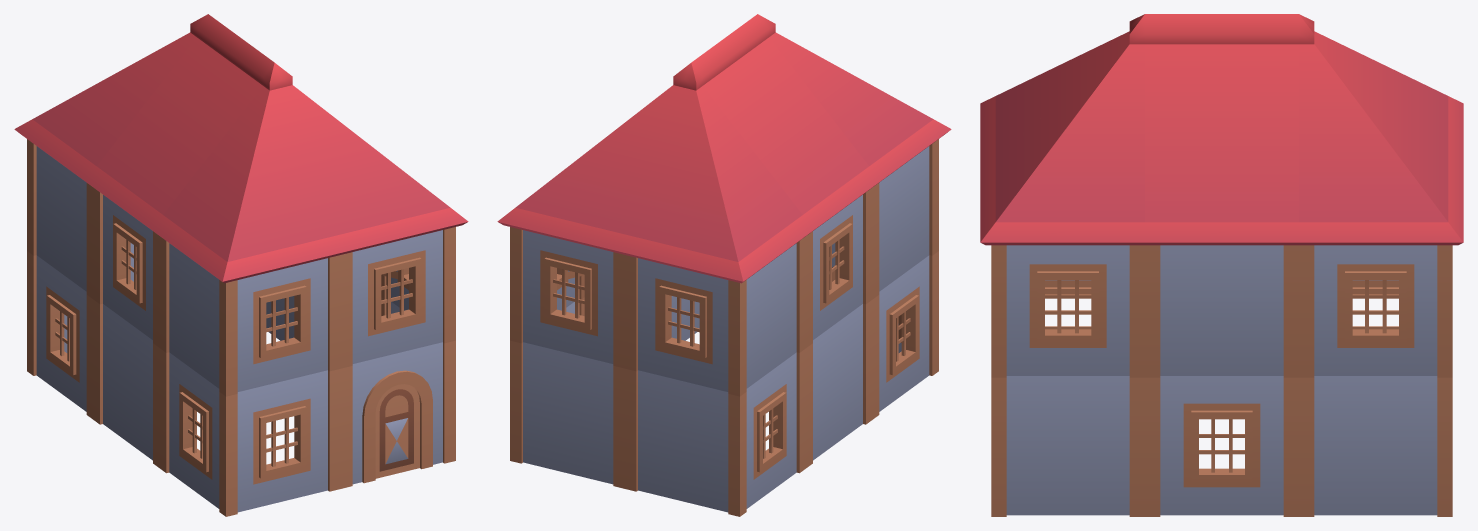
Rendered from townhouse.glb.
3 renders of one model, left to right at view 1: azimuth 30°, elevation 25°; view 2: azimuth 150°, elevation 25°; view 3: azimuth 270°, elevation 25°, orthographic. The views are drawn at different scales.
Parts seen in each view (by area): view 1: townhouse; view 2: townhouse; view 3: townhouse.
Boxes of the visible parts, bbox=[...] form: townhouse: bbox=[14, 14, 468, 516]; townhouse: bbox=[497, 14, 951, 516]; townhouse: bbox=[980, 14, 1463, 516].
Bounding box in the file's own units: 6.42 × 9.42 × 9.42.
Materials: 26 (26 with a texture image).
